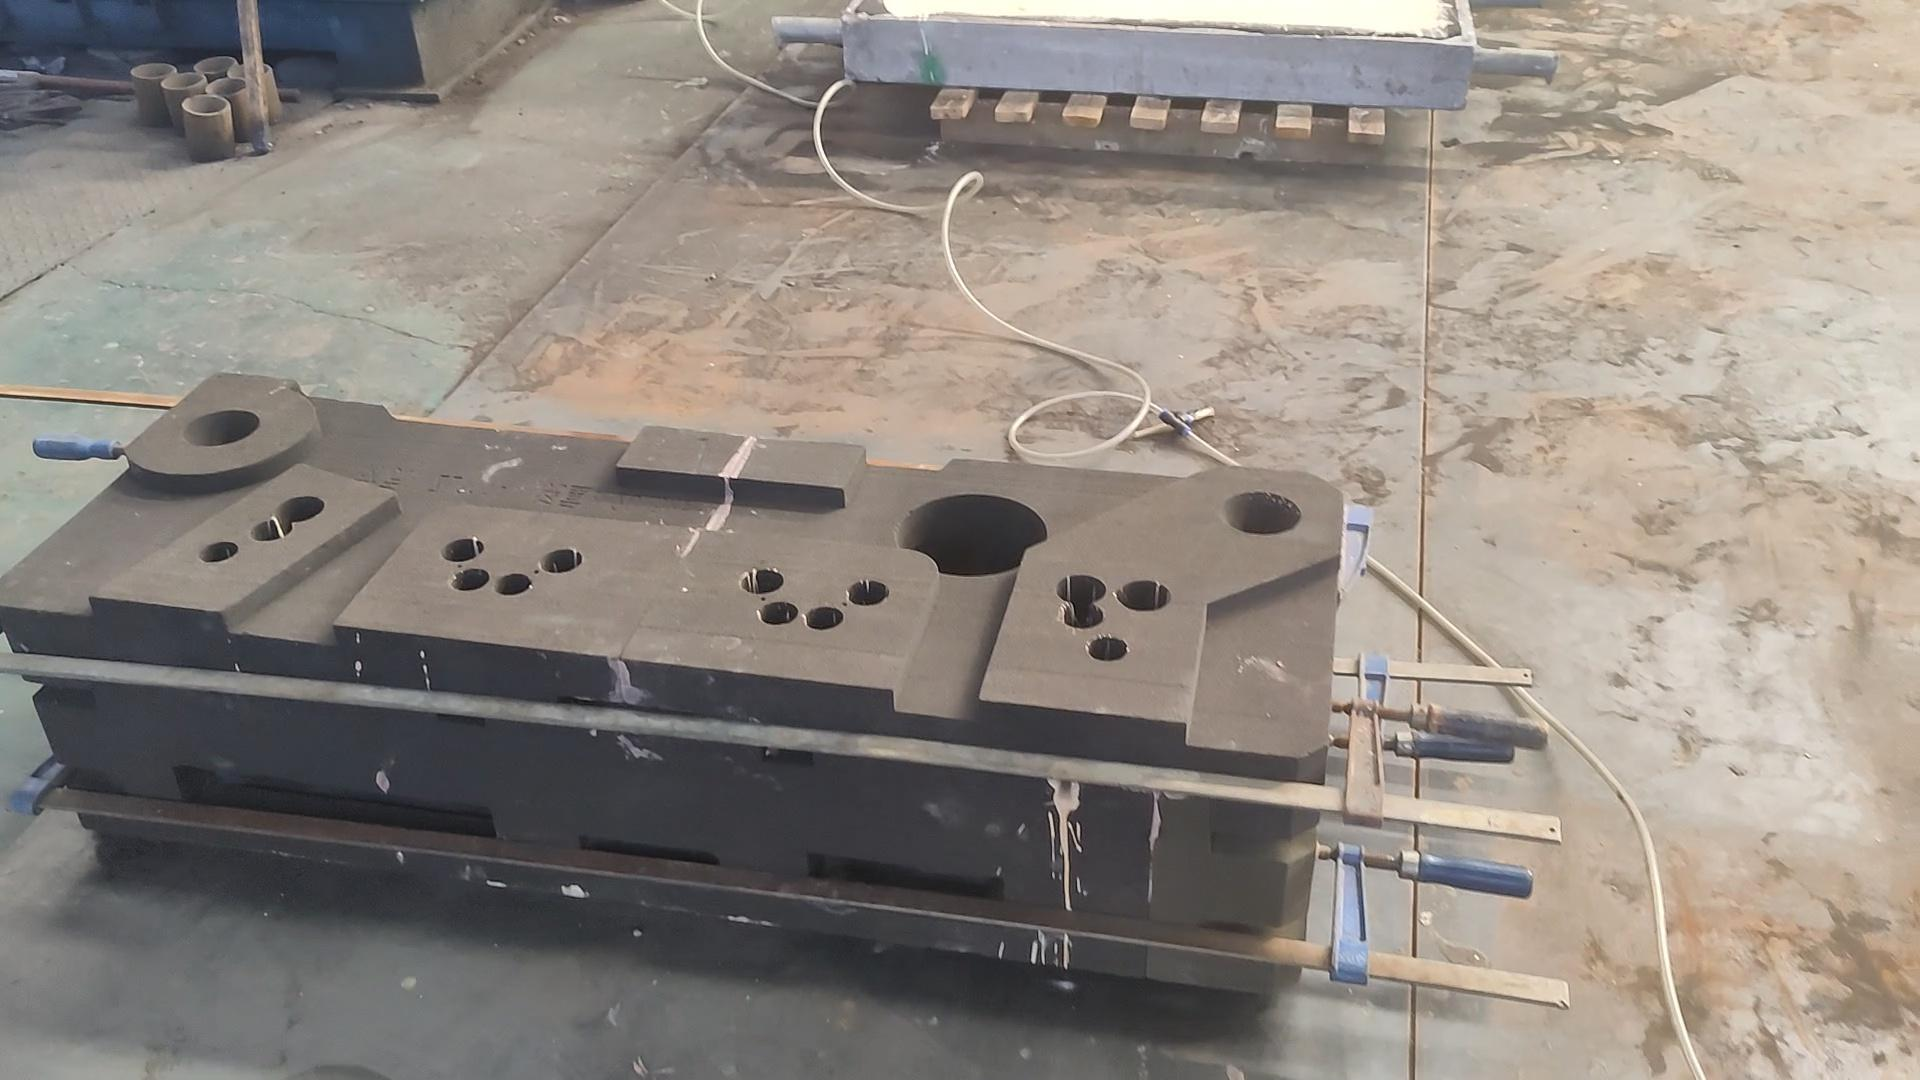pouring hole: (1218, 491, 1302, 535), (181, 410, 261, 447), (179, 94, 229, 115), (204, 76, 249, 95), (193, 55, 236, 74), (161, 73, 204, 90), (228, 62, 272, 79), (131, 63, 175, 78)
